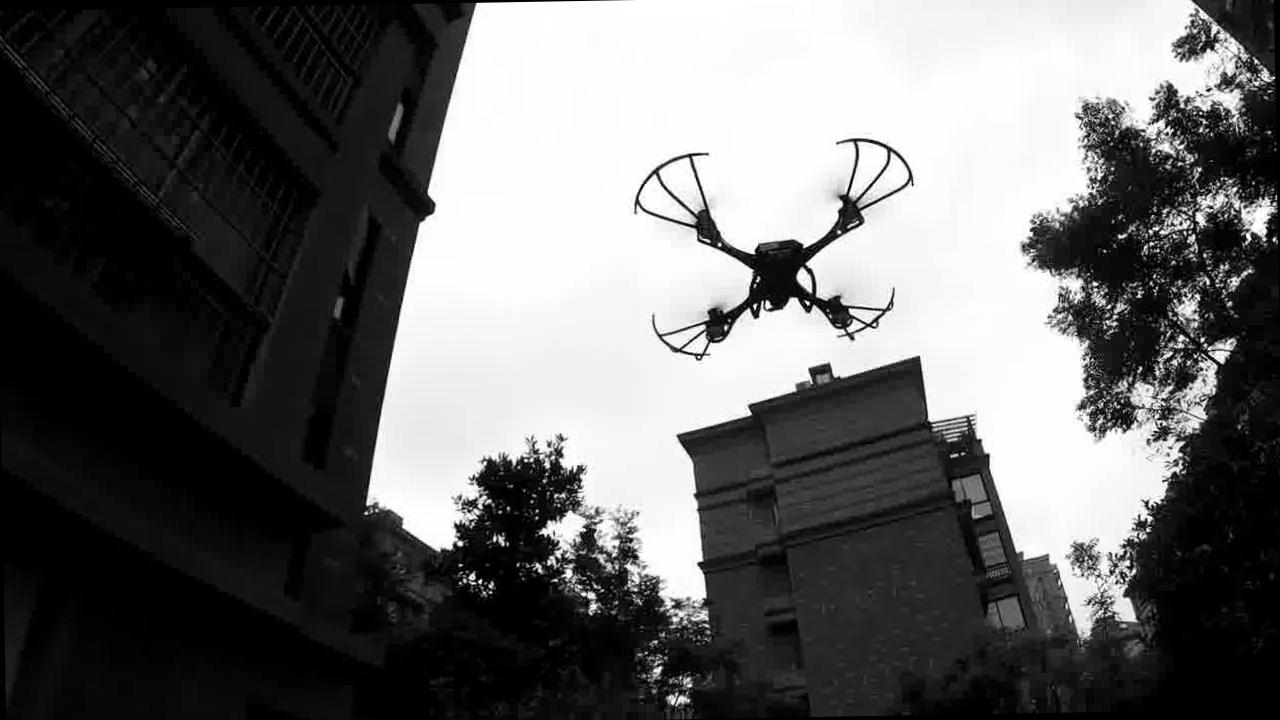drone: (580, 116, 912, 383)
